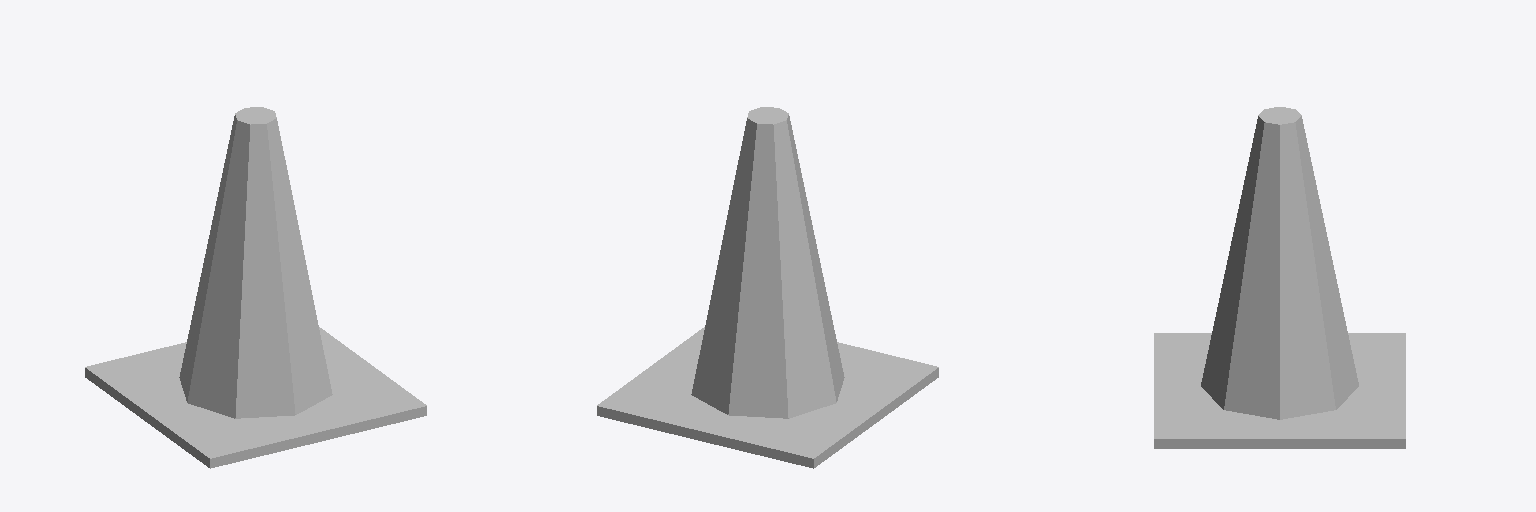
File: lwpltrfccon3.obj
The picture shows the model from 3 angles: view 1: azimuth 30°, elevation 25°; view 2: azimuth 150°, elevation 25°; view 3: azimuth 270°, elevation 25°; orthographic projection.
Visible parts, largest first — view 1: Cube.003; view 2: Cube.003; view 3: Cube.003.
Boxes of the visible parts, box(x1,y1,x2,y2) form: Cube.003: box(85, 107, 426, 468); Cube.003: box(597, 107, 938, 468); Cube.003: box(1154, 107, 1405, 448).
Bounding box in the file's own units: 2.28 × 2.82 × 2.28.